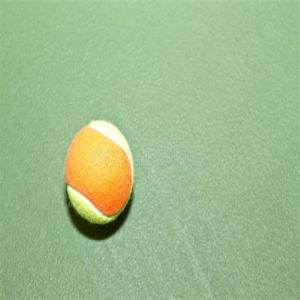Tennis: (64, 114, 138, 235)
